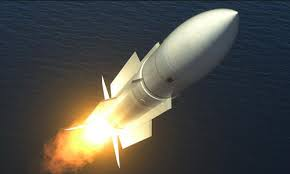ten_lua: (89, 6, 239, 162)
